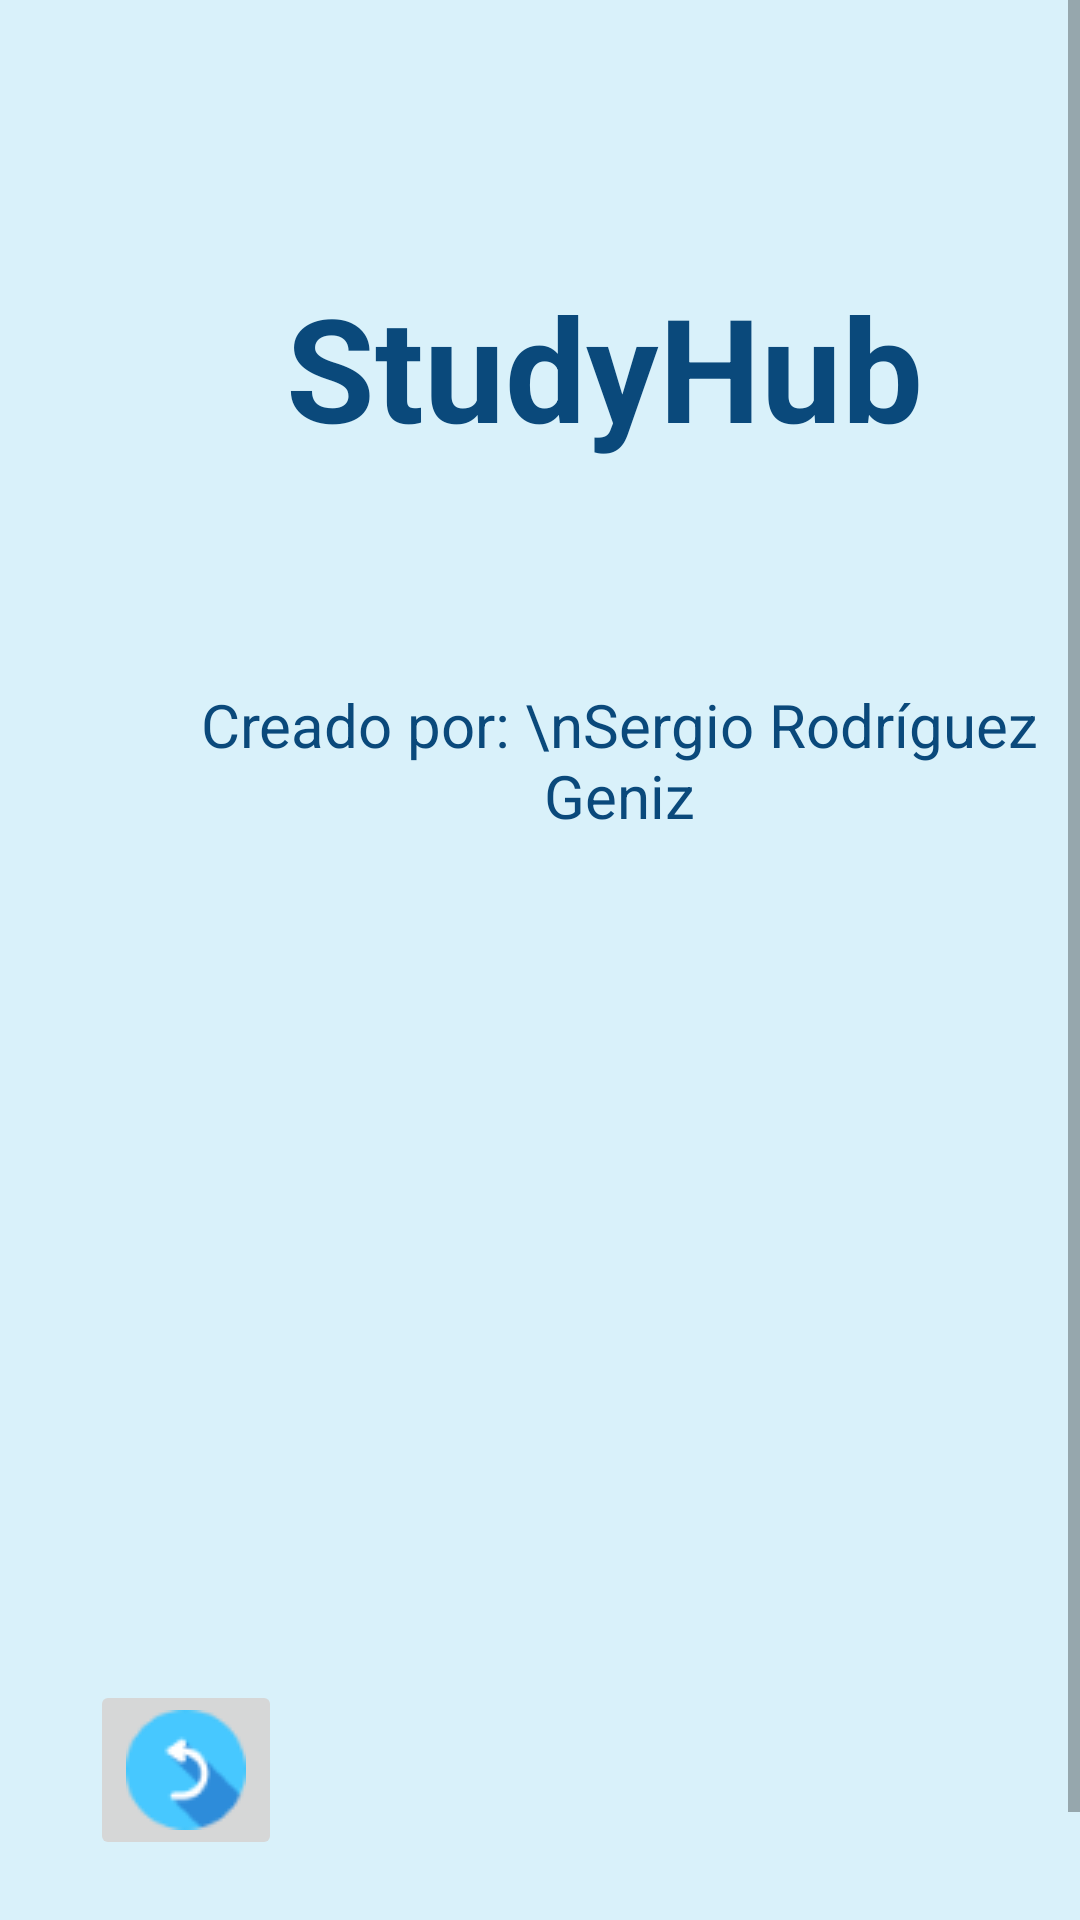

Icons on this 1080 x 1920 Android screen, each with its box as (x1, y1, x2, y2):
flecha hacia atras: (102, 1698, 270, 1842)
